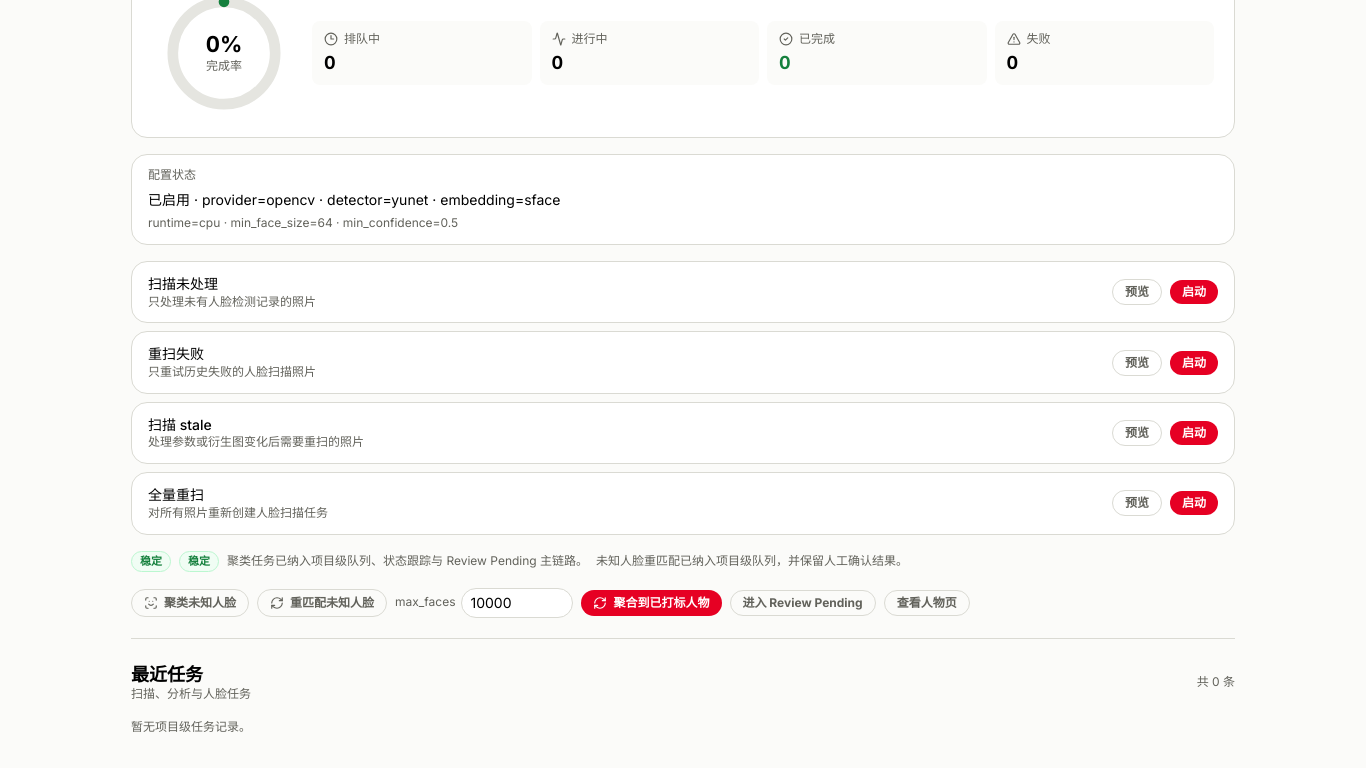
Scenario: TasksPage › uses the configured project-wide face rematch max_faces value
The width and height of the screenshot is (1366, 768).
(page scrolled)
Replace the text in the number field named "全项目聚合 max_faces" with "2500" at (518, 603), box [462,588,574,618]
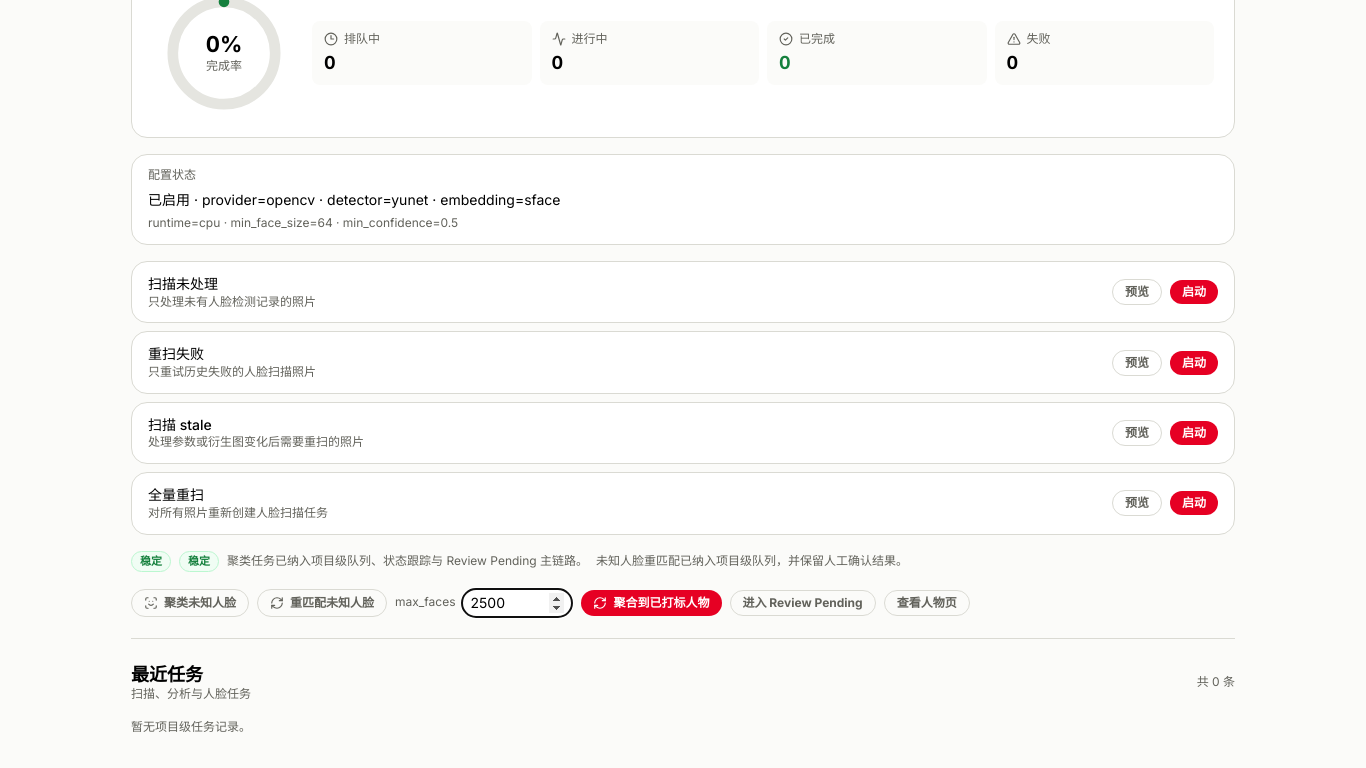
Click the button "聚合到已打标人物" at (652, 603), box [582,590,722,616]
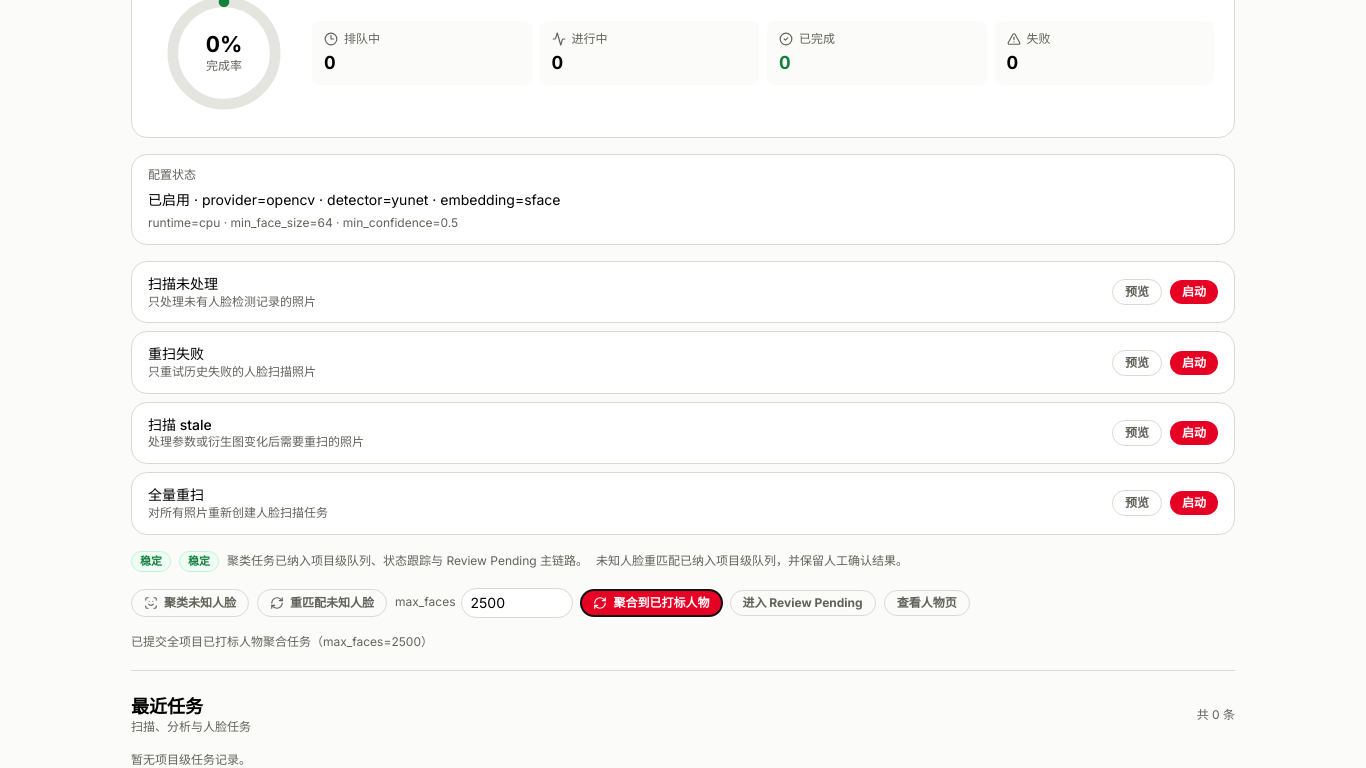
Expected: the text "已提交全项目已打标人物聚合任务（max_faces=2500）" is shown, [131,634,433,648]
